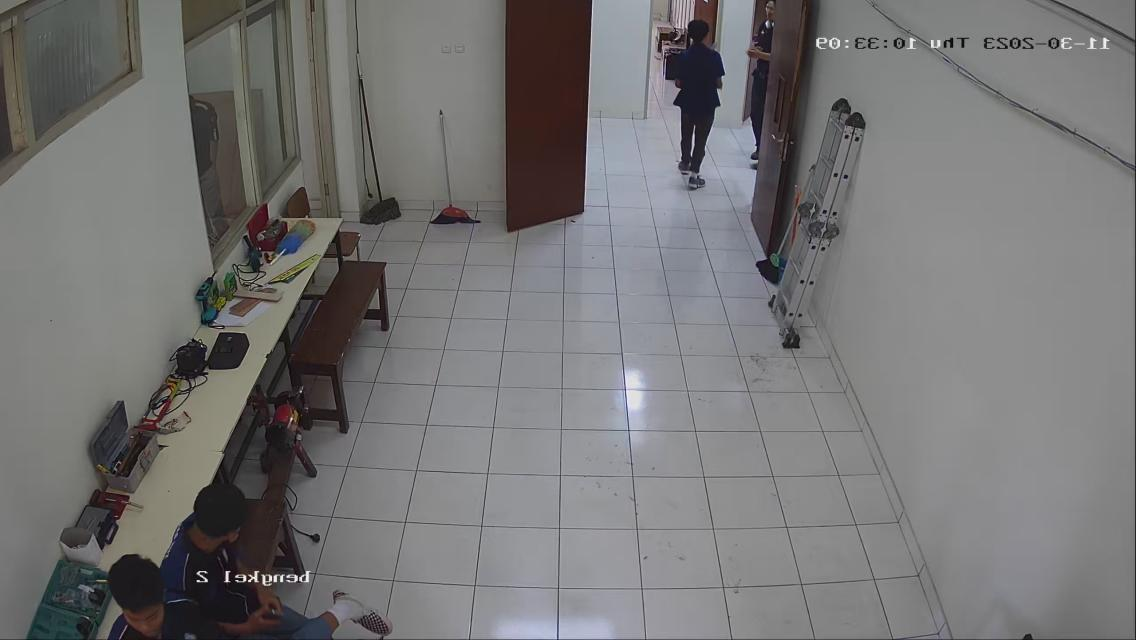Person-Crowd: (646, 15, 741, 205)
